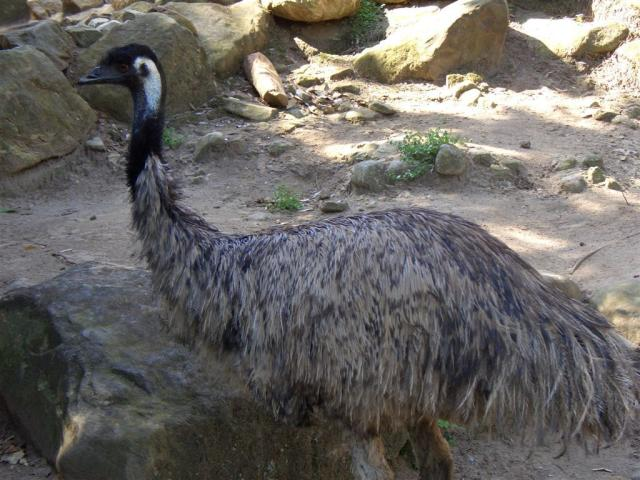Bird: (81, 40, 639, 479)
